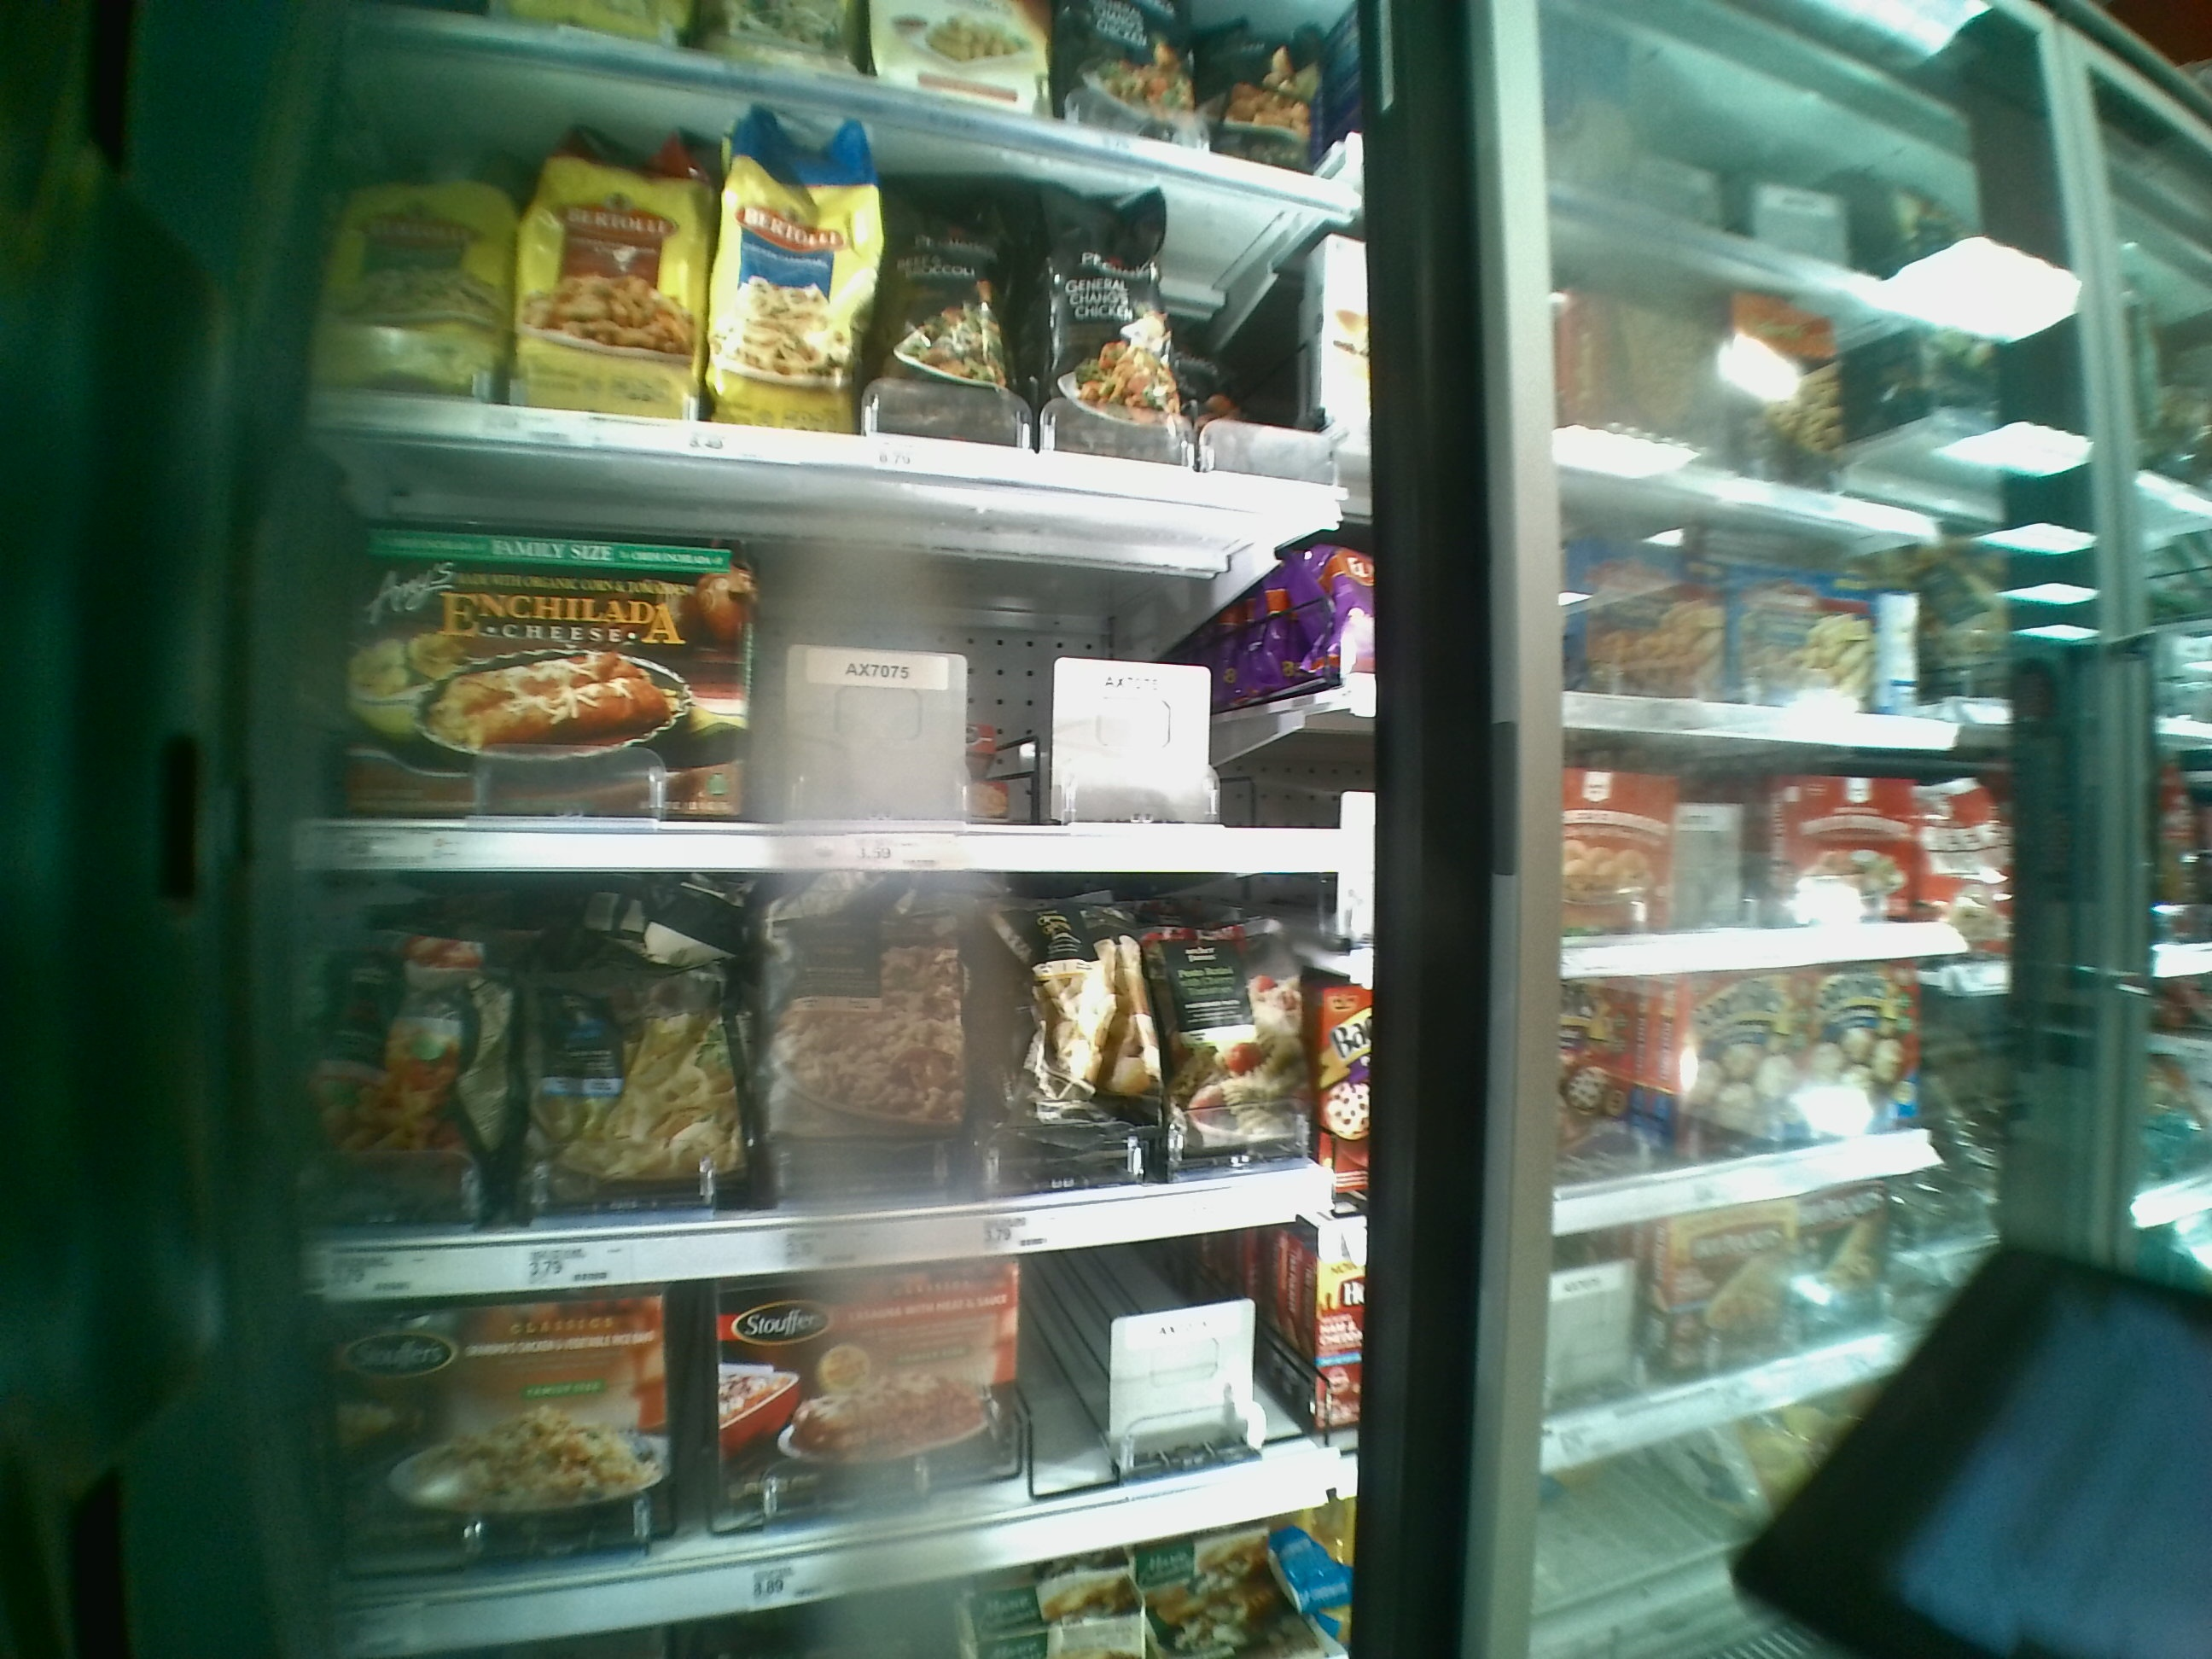shelf: (296, 486, 1362, 878), (296, 871, 1362, 1260), (287, 117, 1367, 498), (334, 1227, 1372, 1591)
